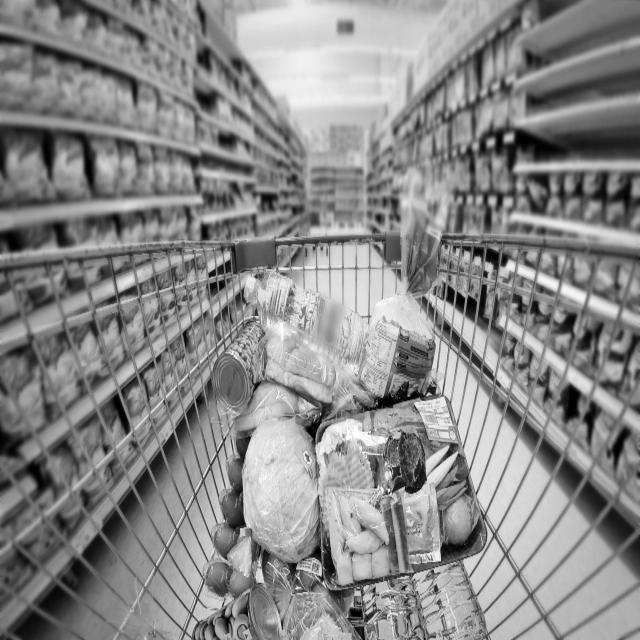apple: (262, 546, 350, 624)
bap cai: (236, 416, 322, 568)
bread: (363, 210, 445, 404)
egg: (206, 432, 262, 604)
oil: (242, 266, 374, 359)
